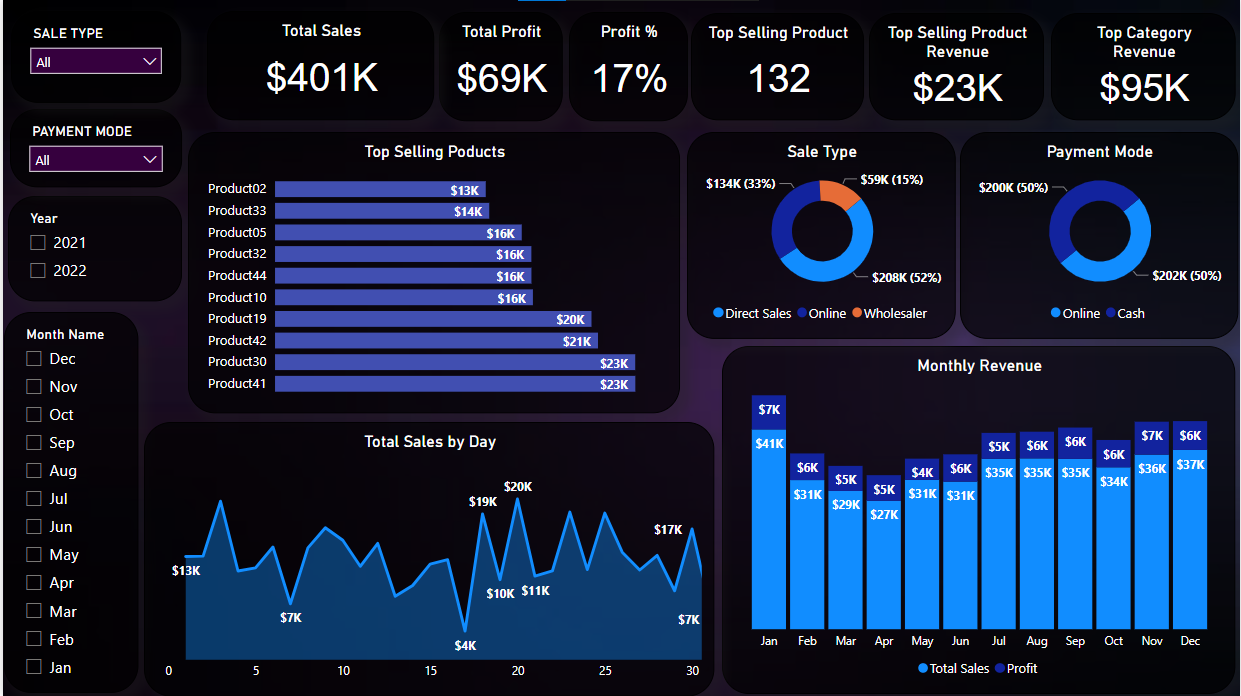

The page's visual inventory and layout, read from the dashboard file:
{"tool":"powerbi","page":{"name":"Dashboard","canvas":[1280,720],"ordinal":0},"visuals":[{"type":"slicer","fields":{"Values":["InputData.Year"]},"box":[5,202.5,180,108.8],"z":0},{"type":"slicer","fields":{"Values":["InputData.Month Name"]},"box":[1.2,322.5,138.8,393.8],"z":1000},{"type":"slicer","fields":{"Values":["InputData.PAYMENT MODE"]},"box":[7.5,112.5,177.5,81.2],"z":2000},{"type":"slicer","fields":{"Values":["InputData.SALE TYPE"]},"box":[8.5,11.2,176.2,95],"z":3000},{"type":"card","title":"Total Profit","fields":{"Values":["Sum(InputData.Total Profit)"]},"box":[451.2,12.5,127.5,112.5],"z":4000},{"type":"card","title":"Profit %","fields":{"Values":["InputData.Profit %"]},"box":[585,12.5,122.5,112.5],"z":5000},{"type":"card","title":"Total Sales","fields":{"Values":["Sum(InputData.Total Sales)"]},"box":[211.2,11.2,235,112.5],"z":6000},{"type":"card","title":"Top Selling Product","fields":{"Values":["Sum(InputData.QUANTITY)"]},"box":[711.2,13.8,178.8,111.2],"z":7000},{"type":"columnChart","title":"Monthly Revenue","fields":{"Category":["InputData.Month Name"],"Y":["Sum(InputData.Total Sales)","InputData.Profit"]},"box":[743.8,357.5,531.2,360],"z":8000},{"type":"card","title":"Top Selling Product Revenue","fields":{"Values":["Sum(InputData.Total Sales)"]},"box":[896.2,13.8,181.2,111.2],"z":9000},{"type":"barChart","title":"Top Selling Poducts","fields":{"Category":["InputData.MasterData.PRODUCT"],"Y":["Sum(InputData.Total Sales)"]},"box":[191.2,136.2,508.8,291.2],"z":10000},{"type":"card","title":"Top Category Revenue","fields":{"Values":["Sum(InputData.Total Sales)"]},"box":[1083.8,13.8,191.2,111.2],"z":11000},{"type":"donutChart","title":"Sale Type","fields":{"Y":["Sum(InputData.Total Sales)"],"Category":["InputData.SALE TYPE"]},"box":[707.5,136.2,277.5,213.8],"z":12000},{"type":"donutChart","title":"Payment Mode","fields":{"Y":["Sum(InputData.Total Sales)"],"Category":["InputData.PAYMENT MODE"]},"box":[990,136.2,287.5,213.8],"z":13000},{"type":"areaChart","fields":{"Category":["InputData.Day"],"Y":["Sum(InputData.Total Sales)"]},"box":[146.2,436.2,590,283.8],"z":14000}]}

Visuals, with their boxes in screenshot pixels (x1, y1, x2, y2), scaled from the page's 1280x720 canvas onto the 1241x696 screenshot:
slicer - InputData.Year: region(5, 196, 179, 301)
slicer - InputData.Month Name: region(1, 312, 136, 692)
slicer - InputData.PAYMENT MODE: region(7, 109, 179, 187)
slicer - InputData.SALE TYPE: region(8, 11, 179, 103)
"Total Profit" card: region(437, 12, 561, 121)
"Profit %" card: region(567, 12, 686, 121)
"Total Sales" card: region(205, 11, 433, 120)
"Top Selling Product" card: region(690, 13, 863, 121)
"Monthly Revenue" columnChart: region(721, 346, 1236, 694)
"Top Selling Product Revenue" card: region(869, 13, 1045, 121)
"Top Selling Poducts" barChart: region(185, 132, 679, 413)
"Top Category Revenue" card: region(1051, 13, 1236, 121)
"Sale Type" donutChart: region(686, 132, 955, 338)
"Payment Mode" donutChart: region(960, 132, 1239, 338)
areaChart - InputData.Day x Sum(InputData.Total Sales): region(142, 422, 714, 695)
